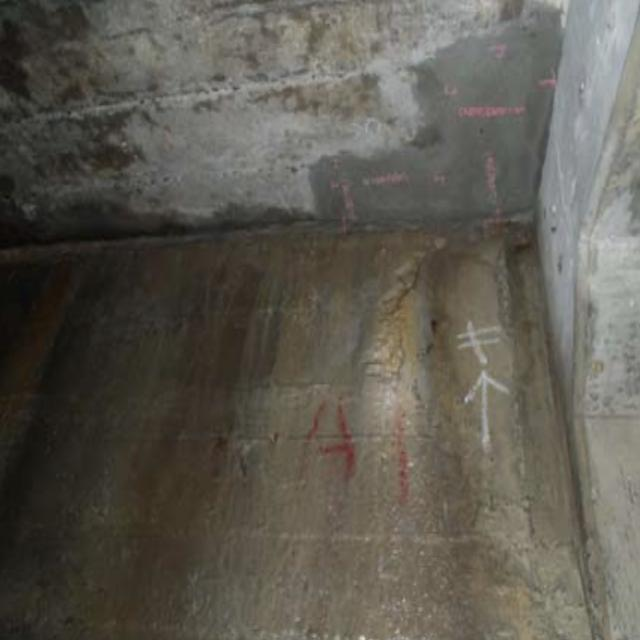leakage: (13, 208, 607, 636)
